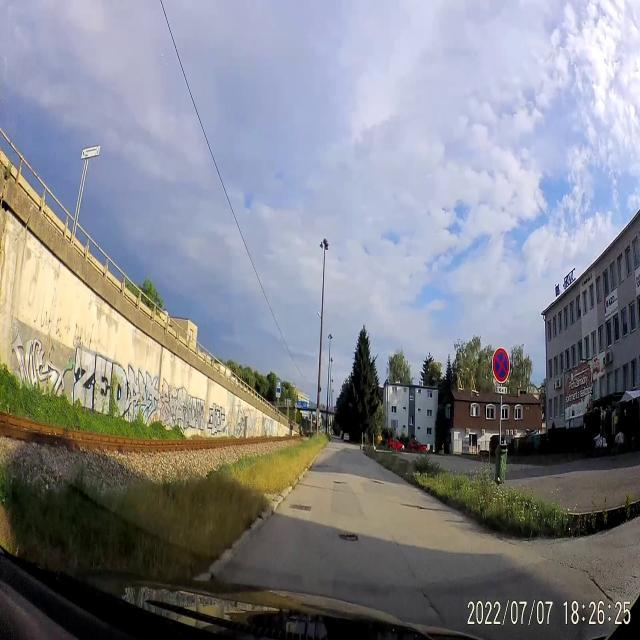Manhole: (286, 499, 314, 519)
Pothole: (336, 526, 364, 546), (369, 476, 384, 487), (333, 477, 347, 488)
